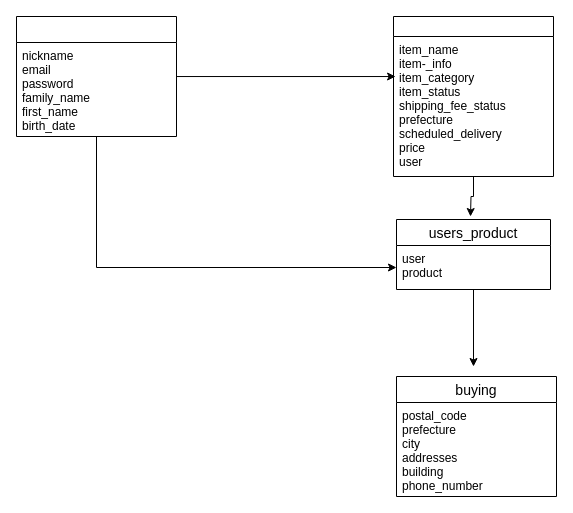
Some shapes in this 573 by 513 pixel diagram are drawn without their labels. The box of each missing label's shape, as (x1, y1, x2, y2) in pixels:
product_information: (392, 16, 554, 176)
users: (16, 16, 176, 136)
